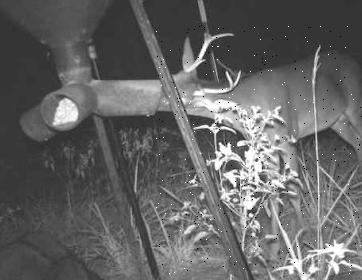Deer: (156, 25, 362, 275)
